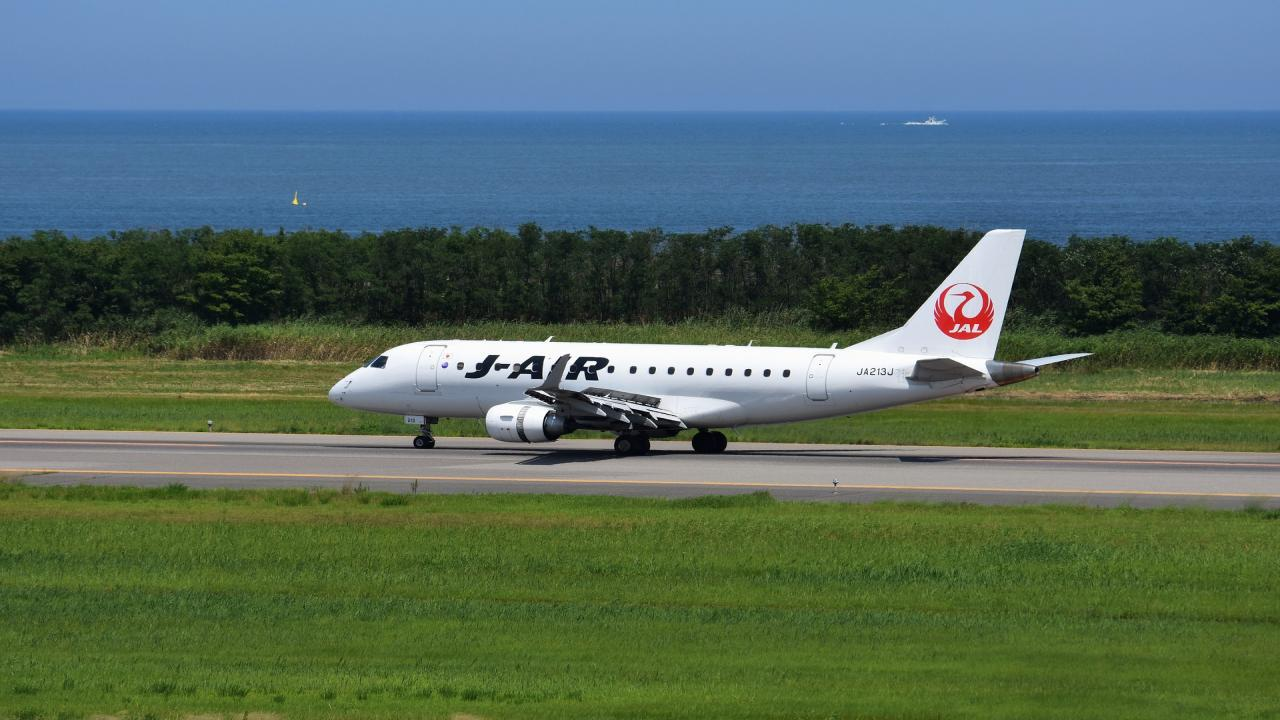Airplane: (314, 206, 1100, 468)
